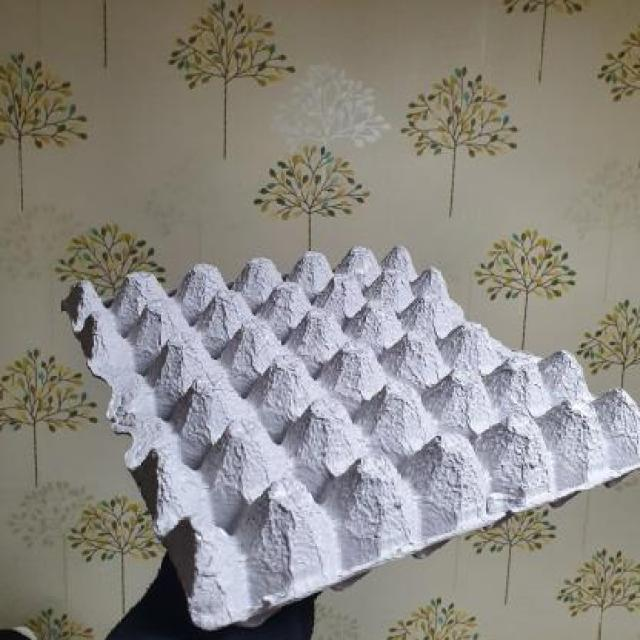box: (51, 217, 638, 640)
